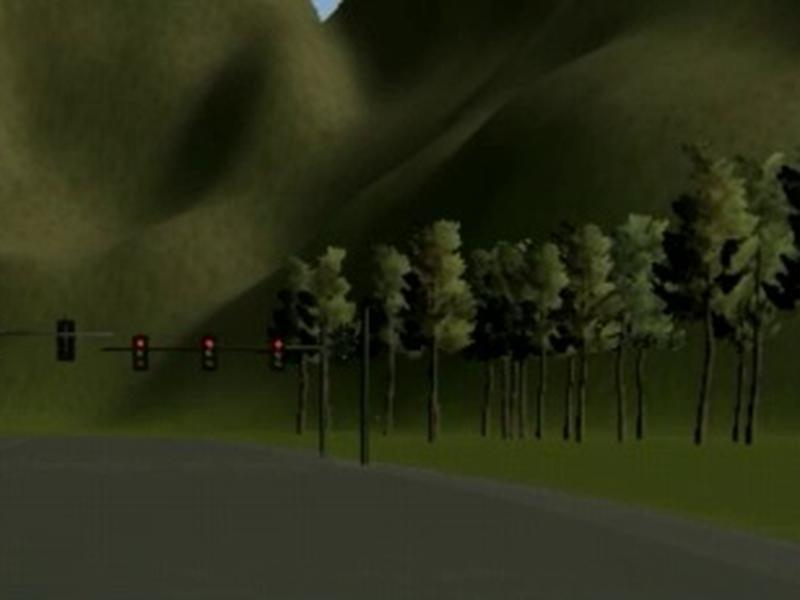Red: (132, 334, 151, 373), (201, 333, 219, 371), (270, 334, 287, 373)
